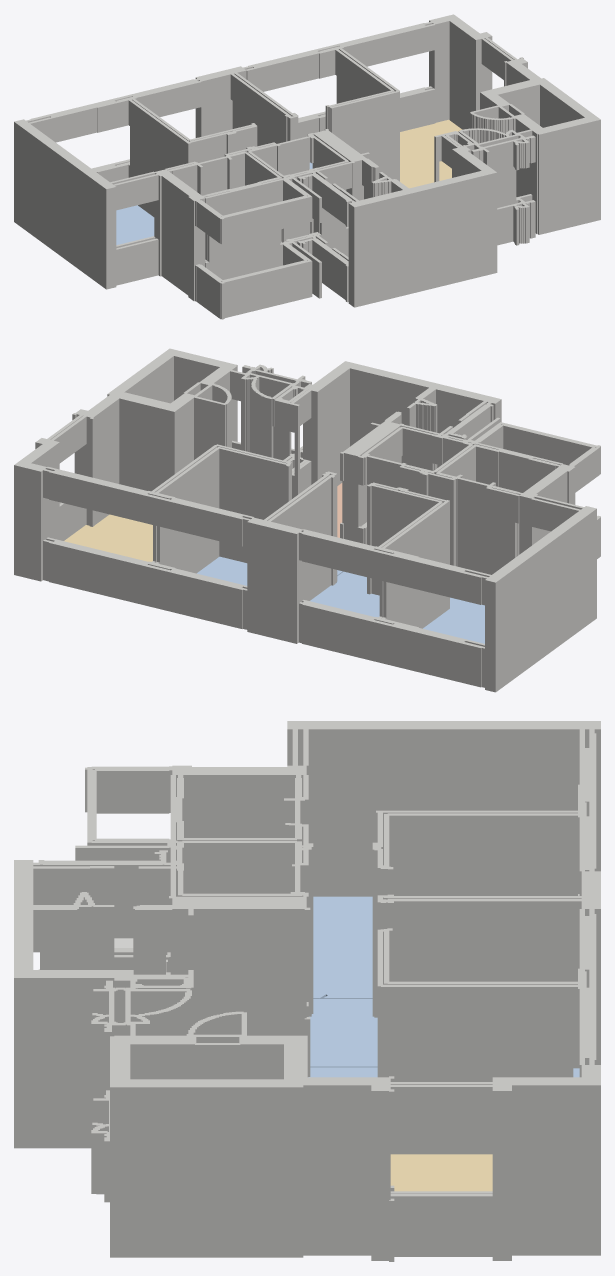
The picture shows the model from 3 angles, top to bottom: view 1: azimuth 30°, elevation 25°; view 2: azimuth 150°, elevation 25°; view 3: azimuth 270°, elevation 25°; orthographic projection. The views are drawn at different scales.
Visible parts, largest first — view 1: walls, room:living:3, room:bedroom:9; view 2: walls, room:living:3, room:bedroom:1, room:bedroom:9, room:bedroom:2; view 3: walls, room:bedroom:9, room:bedroom:1, room:living:3, room:bedroom:2.
Part boxes in pixels (bbox=[...]): walls: bbox=[14, 14, 600, 319]; room:living:3: bbox=[400, 119, 462, 188]; room:bedroom:9: bbox=[116, 205, 154, 244]; walls: bbox=[14, 348, 600, 692]; room:living:3: bbox=[64, 514, 152, 561]; room:bedroom:1: bbox=[310, 571, 379, 617]; room:bedroom:9: bbox=[423, 597, 484, 643]; room:bedroom:2: bbox=[197, 556, 343, 585]; walls: bbox=[14, 721, 600, 1261]; room:bedroom:9: bbox=[313, 896, 372, 998]; room:bedroom:1: bbox=[309, 999, 377, 1067]; room:living:3: bbox=[390, 1154, 492, 1191]; room:bedroom:2: bbox=[308, 1067, 579, 1077].
Bounding box in the file's own units: 13.07 × 2.8 × 8.75.
